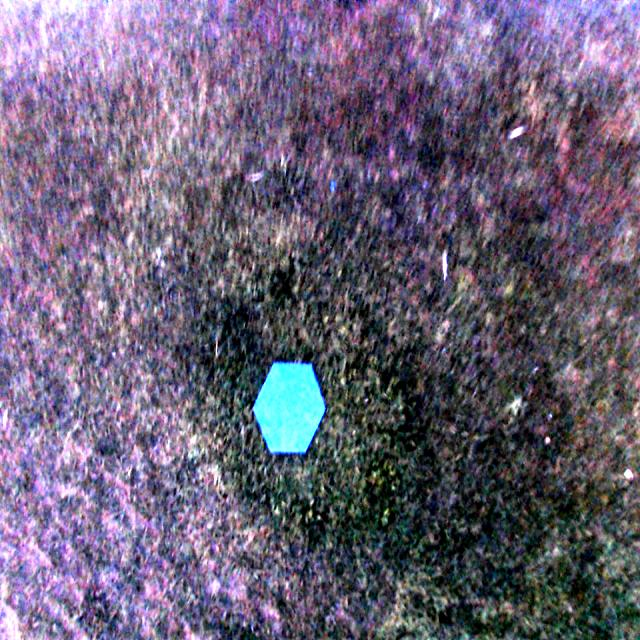blue_hexagon: (250, 360, 329, 454)
